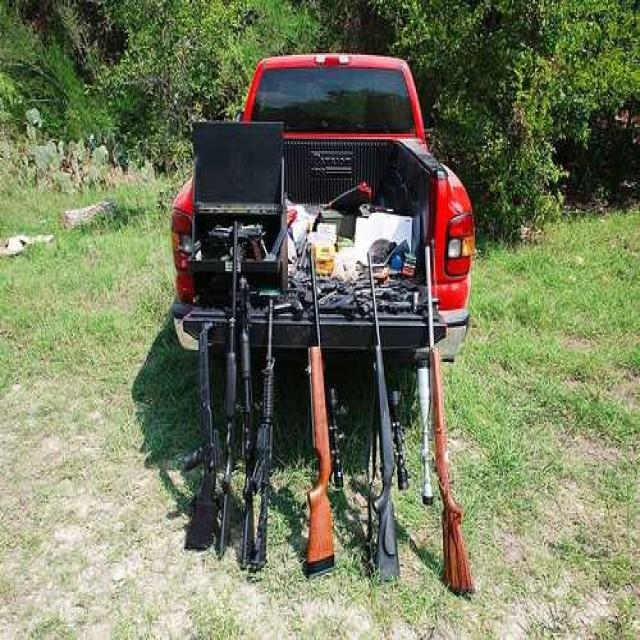heavyweapon: (284, 240, 348, 586), (418, 353, 489, 605), (360, 250, 411, 569), (248, 295, 283, 566), (185, 324, 221, 550)
